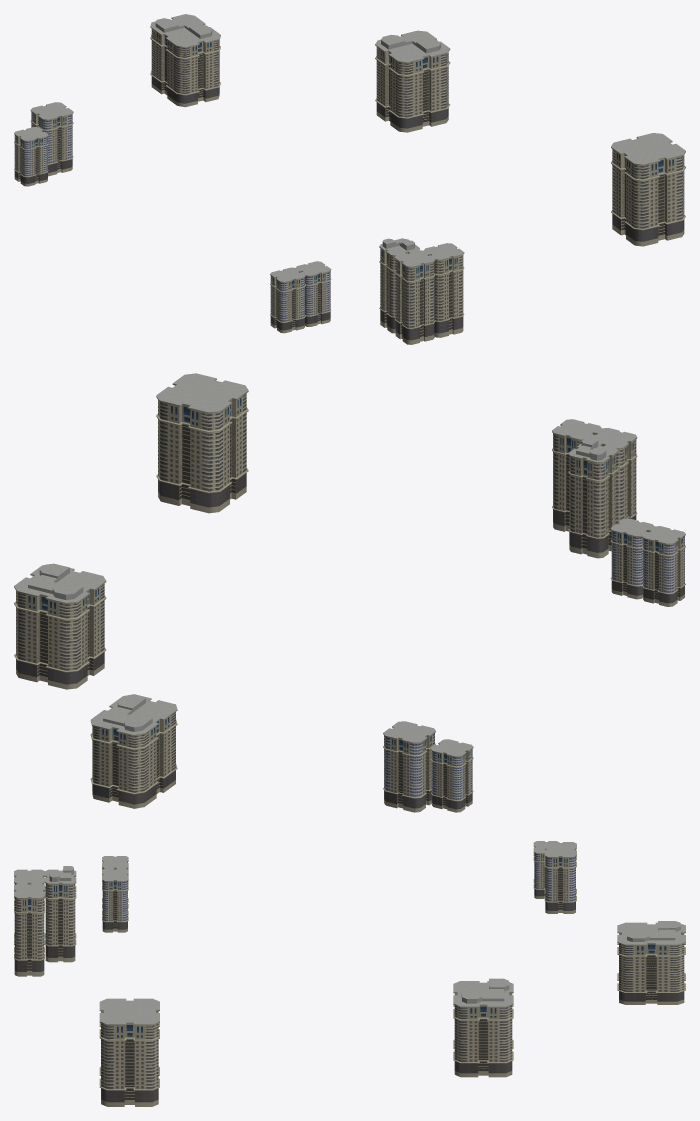
The model's file is Re_Invent_track_building_city_02.dae.
The picture shows the model from 3 angles, top to bottom: view 1: azimuth 30°, elevation 25°; view 2: azimuth 150°, elevation 25°; view 3: azimuth 270°, elevation 25°; orthographic projection. The views are drawn at different scales.
Parts seen in each view (by area): view 1: building_city_02_04, building_city_02_02, building_city_02_01, building_city_02_03, building_city_02_06, building_city_02_05; view 2: building_city_02_02, building_city_02_01, building_city_02_04, building_city_02_03, building_city_02_06, building_city_02_05; view 3: building_city_02_02, building_city_02_04, building_city_02_01, building_city_02_03, building_city_02_06, building_city_02_05.
Part boxes in pixels (bbox=[...]): building_city_02_04: bbox=[379, 238, 464, 344]; building_city_02_02: bbox=[611, 133, 685, 246]; building_city_02_01: bbox=[375, 30, 450, 132]; building_city_02_03: bbox=[150, 14, 220, 107]; building_city_02_06: bbox=[14, 102, 73, 186]; building_city_02_05: bbox=[270, 261, 331, 333]; building_city_02_02: bbox=[156, 373, 248, 513]; building_city_02_01: bbox=[14, 563, 106, 689]; building_city_02_04: bbox=[552, 419, 637, 558]; building_city_02_03: bbox=[90, 694, 177, 808]; building_city_02_06: bbox=[383, 721, 473, 812]; building_city_02_05: bbox=[610, 518, 685, 606]; building_city_02_02: bbox=[99, 998, 159, 1106]; building_city_02_04: bbox=[14, 866, 76, 976]; building_city_02_01: bbox=[453, 978, 513, 1077]; building_city_02_03: bbox=[617, 921, 685, 1004]; building_city_02_06: bbox=[533, 841, 576, 913]; building_city_02_05: bbox=[102, 856, 128, 932].
Size of the model in its own units: 35.83 by 46.2 by 6.36.
Materials: 5 (5 with a texture image).
